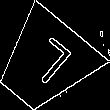L_SW: (16, 34, 73, 93)
